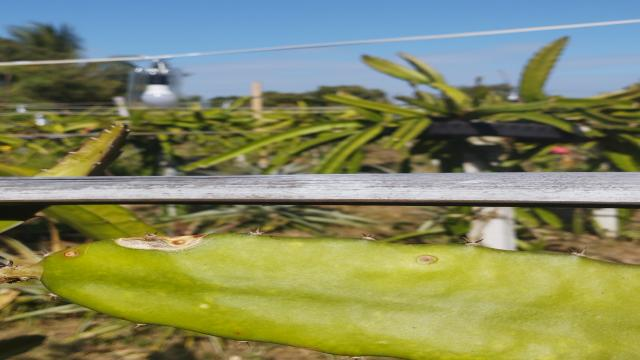stemcanker: (405, 249, 450, 270), (57, 244, 98, 263)
